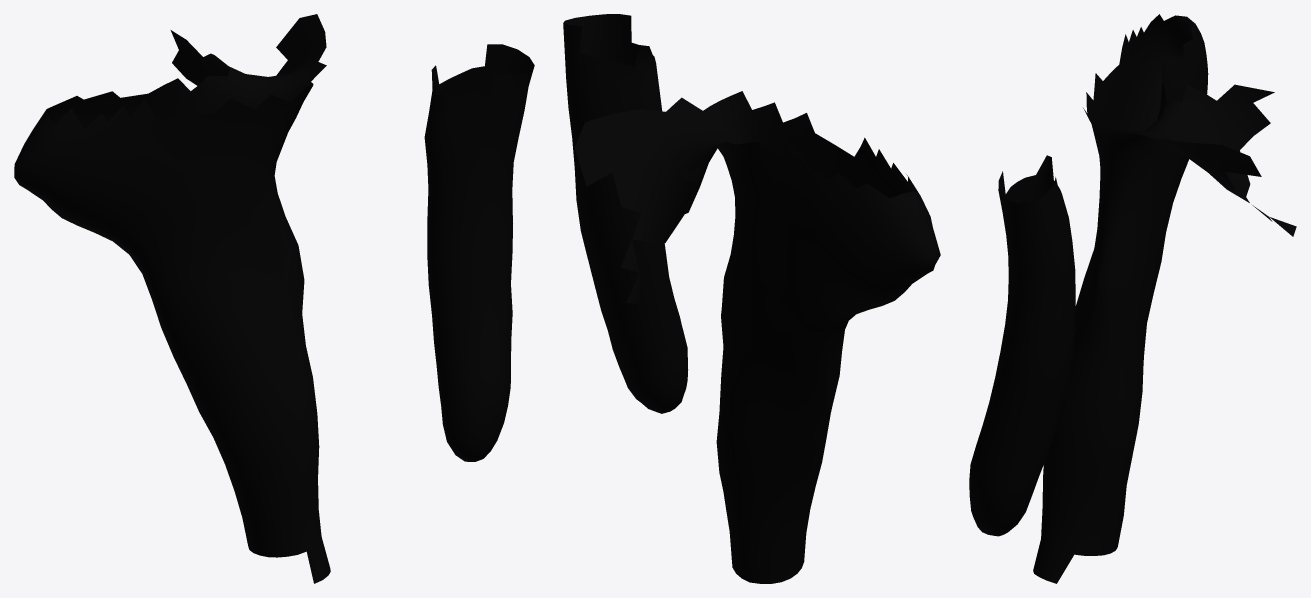
File: Pie2B2.obj
3 renders of one model, left to right at view 1: azimuth 30°, elevation 25°; view 2: azimuth 150°, elevation 25°; view 3: azimuth 270°, elevation 25°, orthographic. The views are drawn at different scales.
Parts seen in each view (by area): view 1: Pie2B2; view 2: Pie2B2; view 3: Pie2B2.
Boxes of the visible parts, left/top/right/bottom form: Pie2B2: left=14, top=14, right=534, bottom=583; Pie2B2: left=563, top=14, right=940, bottom=583; Pie2B2: left=969, top=14, right=1296, bottom=583.
Size of the model in its own units: 0.4606 by 0.4907 by 0.3014.
1 material, 1 textured.
